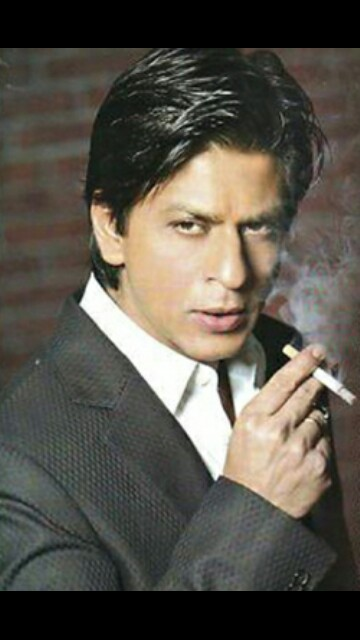cigarette: (269, 341, 358, 410)
